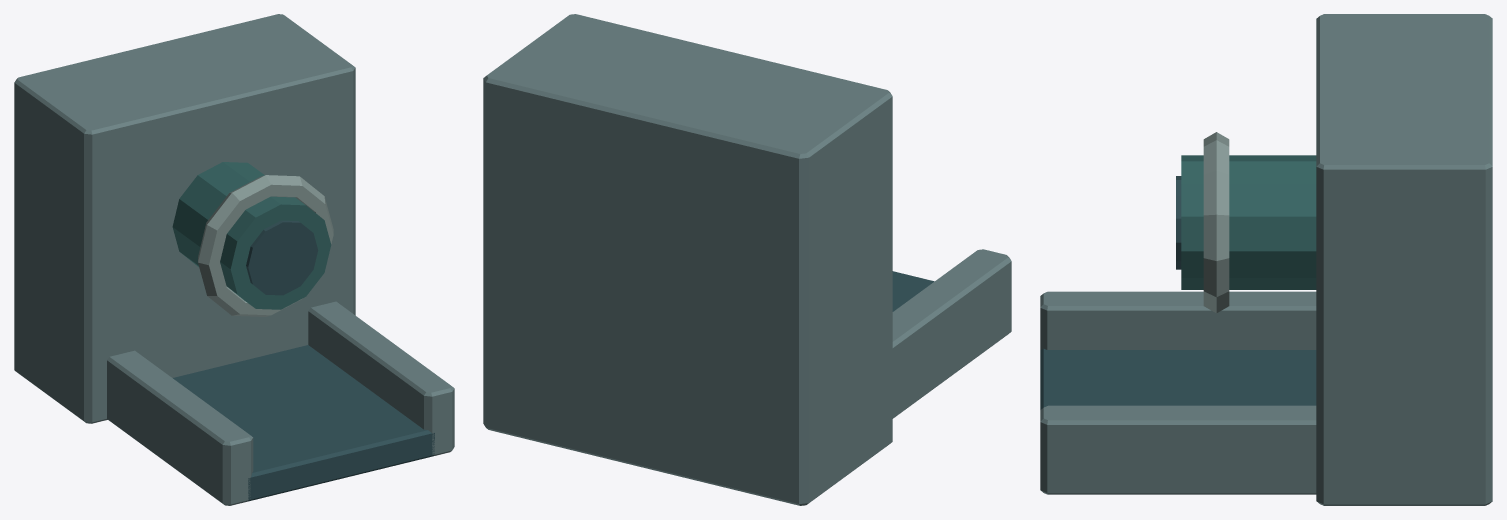
Rendered from masonry-outlet.glb.
The picture shows the model from 3 angles, left to right: view 1: azimuth 30°, elevation 25°; view 2: azimuth 150°, elevation 25°; view 3: azimuth 270°, elevation 25°; orthographic projection. The views are drawn at different scales.
Visible parts, largest first — view 1: masonry-outlet__body; view 2: masonry-outlet__body; view 3: masonry-outlet__body.
Part boxes in pixels (x1=…): masonry-outlet__body: x1=14, y1=14, x2=454, y2=505; masonry-outlet__body: x1=483, y1=14, x2=1011, y2=505; masonry-outlet__body: x1=1040, y1=14, x2=1492, y2=505.
Bounding box in the file's own units: 0.62 × 0.64 × 0.77.
